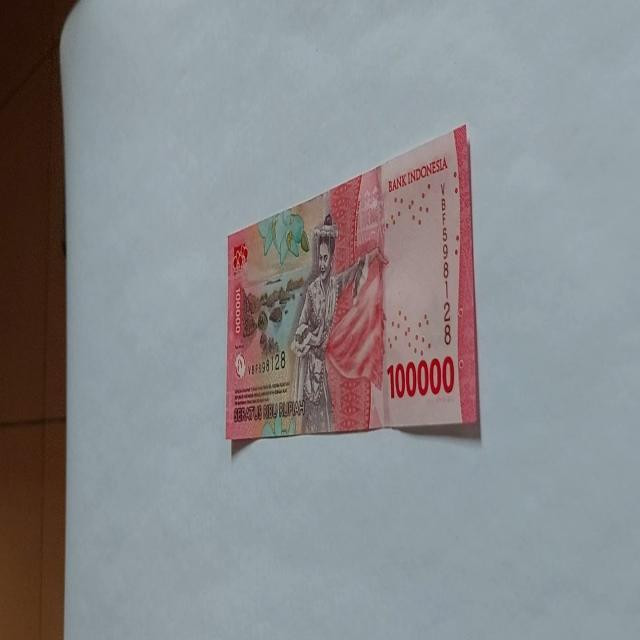seratus ribu rupiah: (224, 123, 480, 444), (289, 212, 383, 434)
